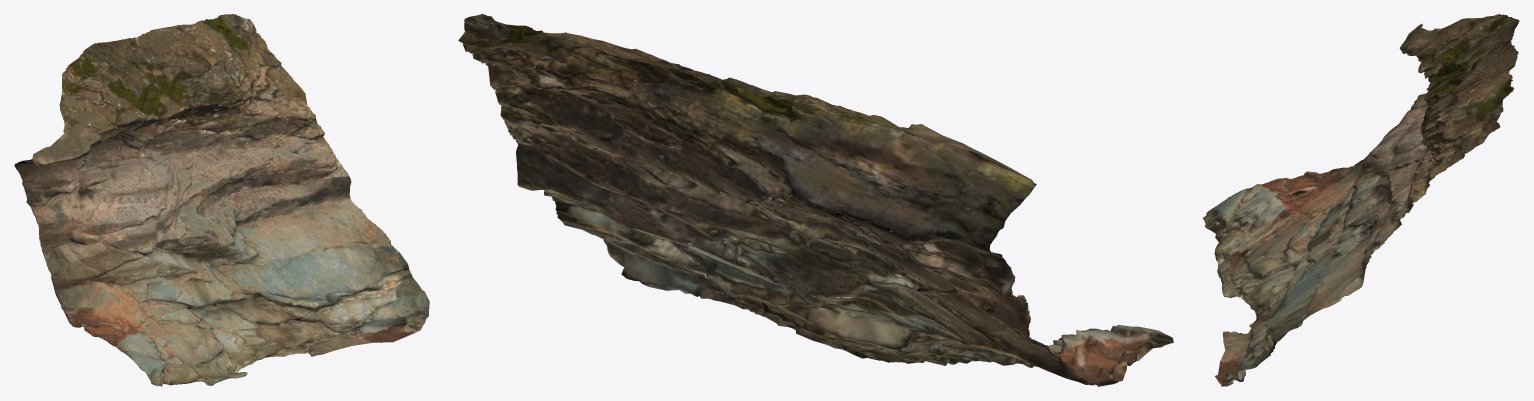
Rendered from rock_face_01.glb.
The picture shows the model from 3 angles, left to right: view 1: azimuth 30°, elevation 25°; view 2: azimuth 150°, elevation 25°; view 3: azimuth 270°, elevation 25°; orthographic projection. The views are drawn at different scales.
Visible parts, largest first — view 1: rock_face_01; view 2: rock_face_01; view 3: rock_face_01.
Part boxes in pixels (box(x1,y1,x2,y2)): rock_face_01: box(14, 14, 429, 386); rock_face_01: box(458, 14, 1173, 386); rock_face_01: box(1202, 14, 1519, 386).
Bounding box in the file's own units: 4.95 × 3.57 × 3.83.
1 material, 1 textured.
